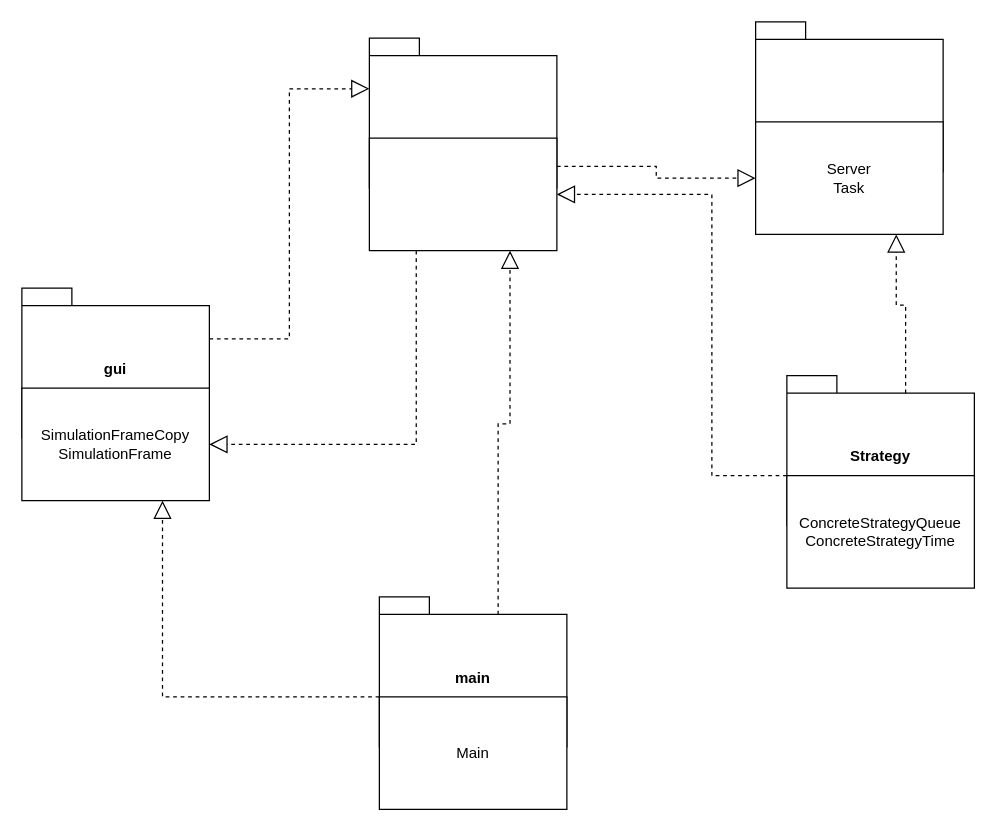
This 996x831 diagram has some shape labels left out. The shapes that lost their labels are listed below. From the top down, each one's centre as x and y in pixels, then its label:
point 462,112: business logic
point 848,96: model:
point 462,194: Scheduler SelectionPolicy SimulationManager Strategy
